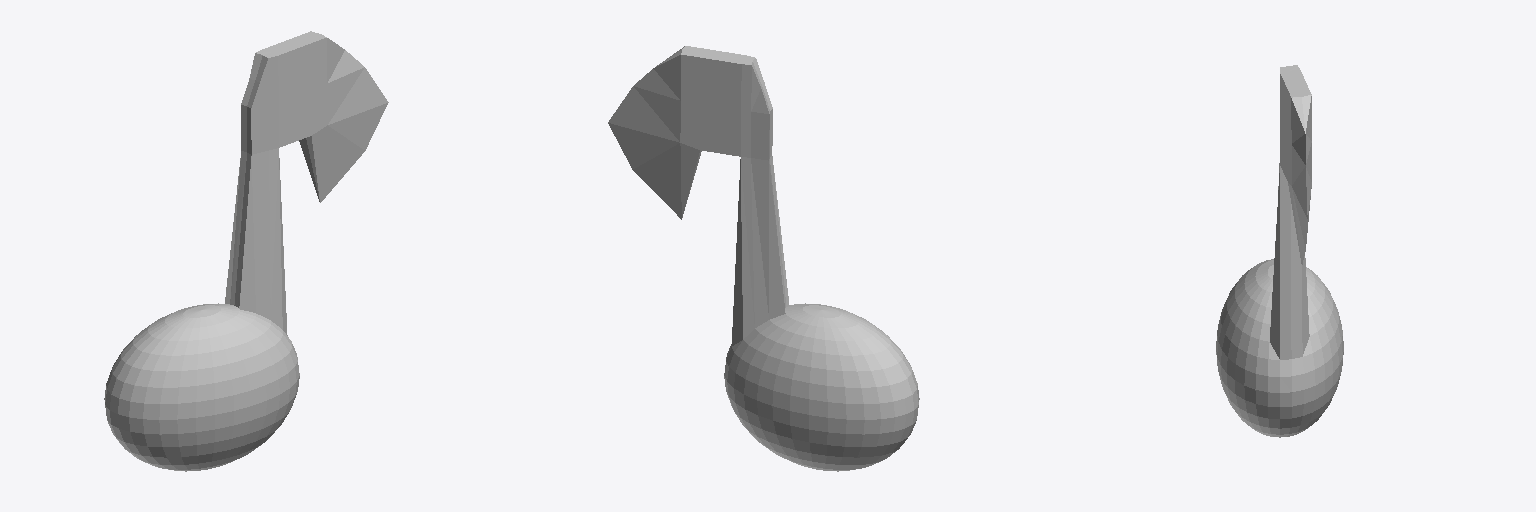
Rendered from effectnotes.obj.
The picture shows the model from 3 angles: view 1: azimuth 30°, elevation 25°; view 2: azimuth 150°, elevation 25°; view 3: azimuth 270°, elevation 25°; orthographic projection.
Visible parts, largest first — view 1: 球; view 2: 球; view 3: 球.
Boxes of the visible parts, <box> form: 球: <box>104,31,388,471</box>; 球: <box>608,46,919,471</box>; 球: <box>1216,65,1343,437</box>.
Bounding box in the file's own units: 1.58 × 2.02 × 0.6.